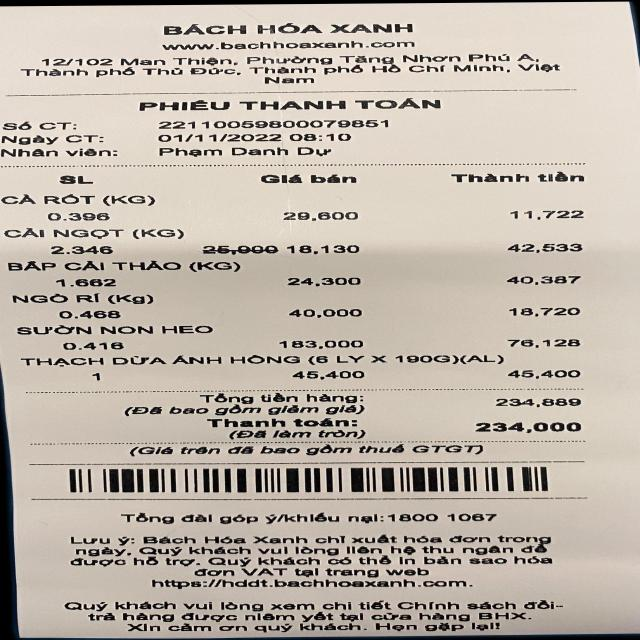Date: (149, 131, 286, 145)
Store_Name: (124, 13, 461, 41)
amount_number: (470, 418, 596, 434)
label_total: (202, 415, 363, 430)
